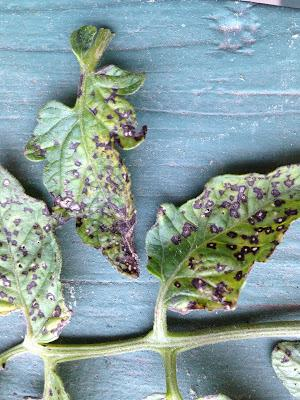Tomato Septoria leaf spot: (33, 13, 150, 290), (151, 158, 300, 313), (1, 147, 75, 353)
